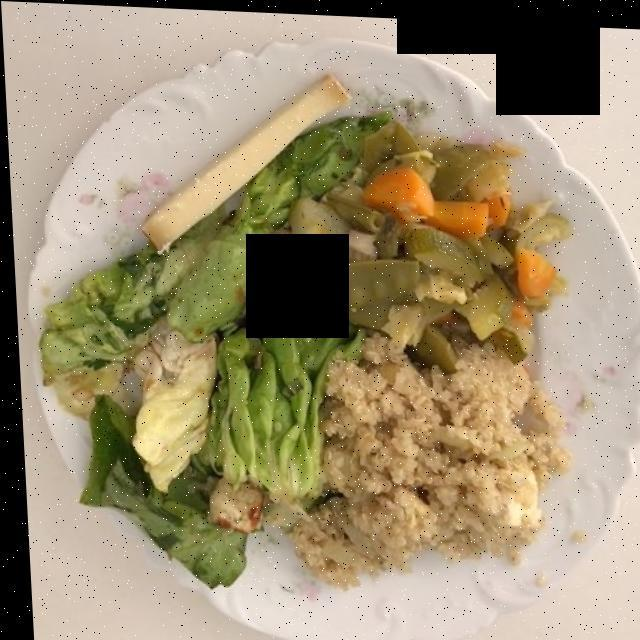cheese: (135, 62, 358, 254)
mixed-vegetables: (277, 126, 569, 337)
quinoa: (278, 336, 558, 576)
salad: (43, 101, 382, 578)
